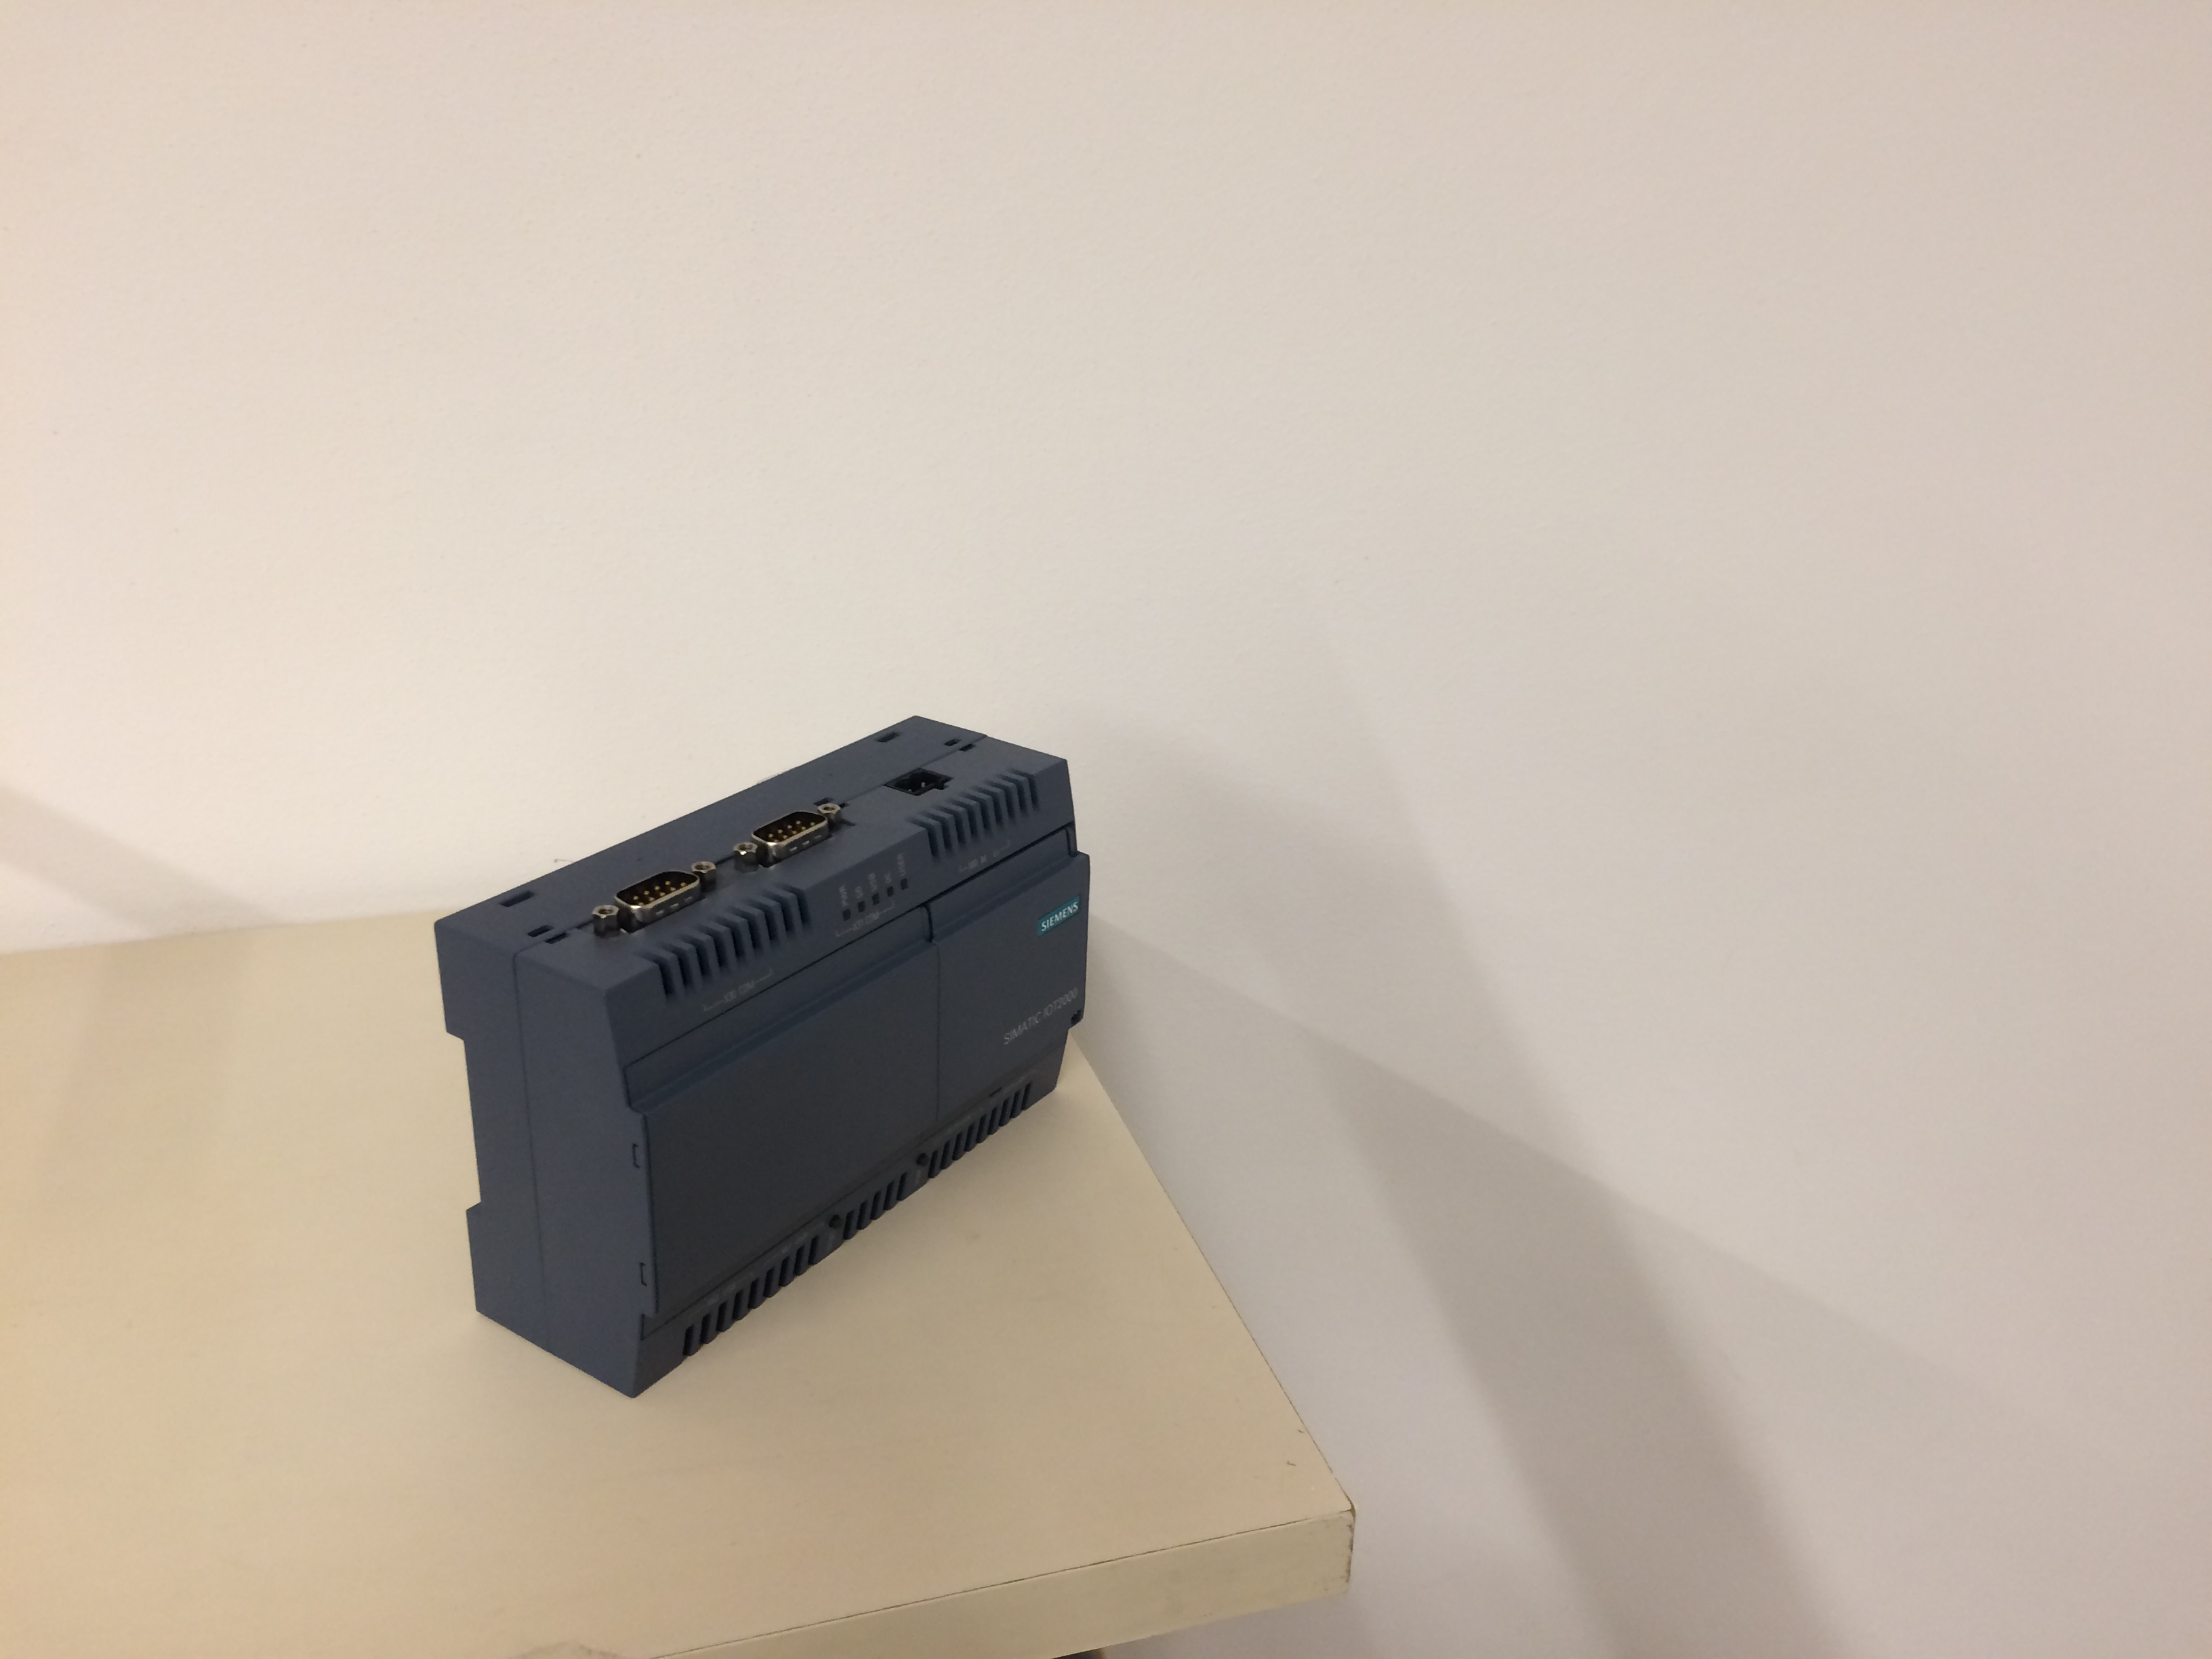iot2000: (430, 711, 1097, 1401)
